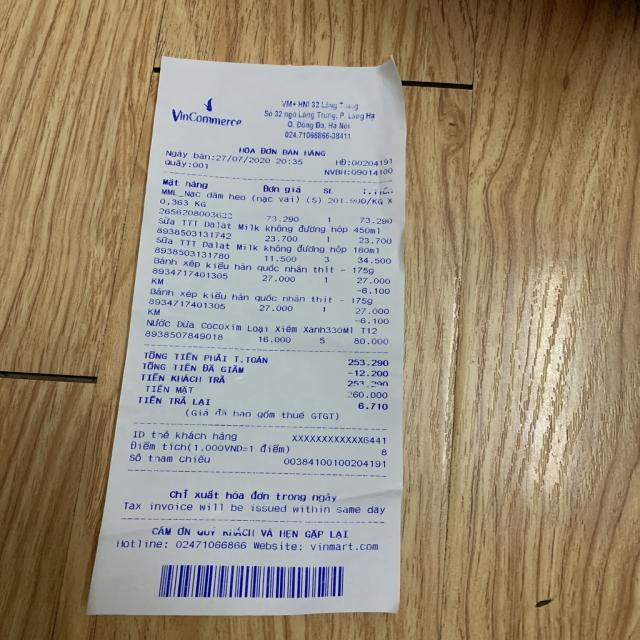Date: (214, 153, 272, 165)
Store_Name: (171, 107, 244, 129)
amount_number: (346, 357, 389, 368)
label_total: (143, 349, 270, 365)
